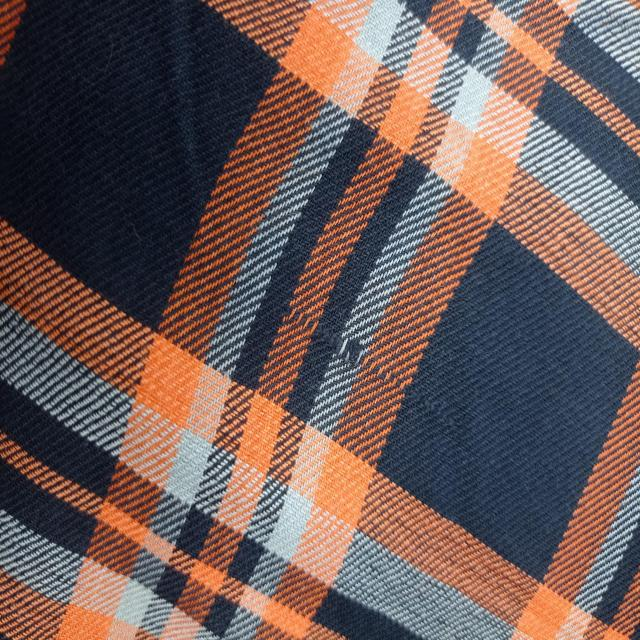stain: (328, 320, 370, 383)
